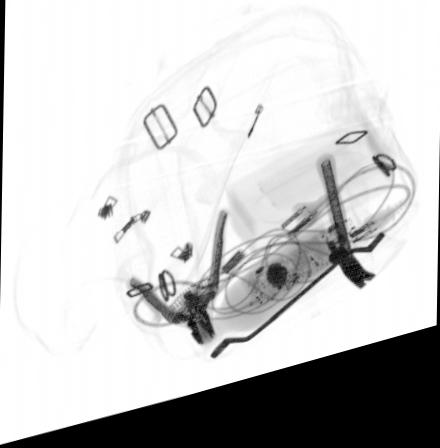Hammer: (313, 166, 376, 311)
Pliers: (122, 223, 228, 361)
Wrench: (208, 246, 383, 373)
